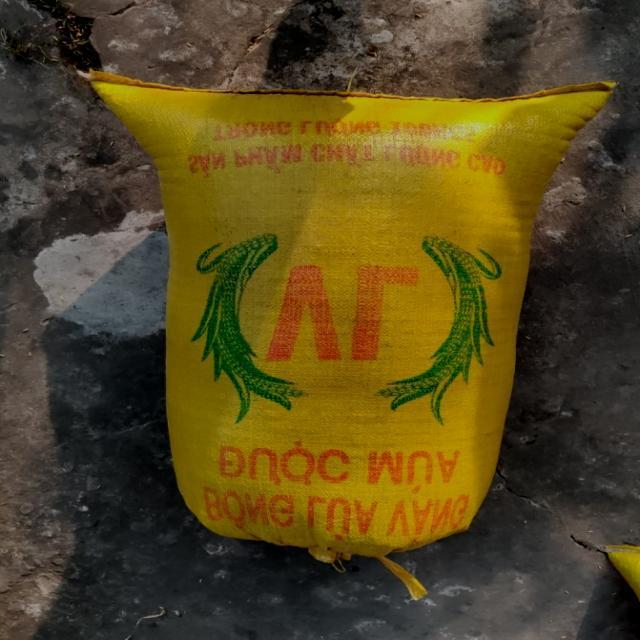gunny_bag: (89, 72, 614, 599)
